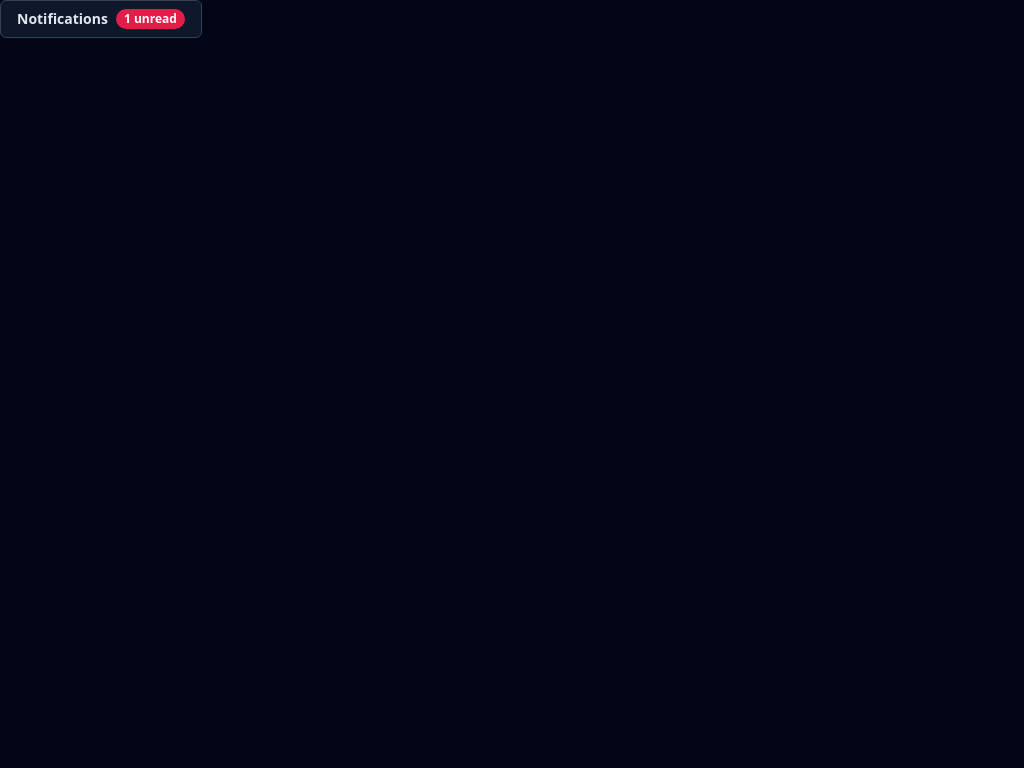
NotificationBell › acknowledges a notification and shows the zero-unread state
Expected: the text "1 unread" is shown, [116,9,185,29]
Step 1. Click the button "Notifications 1 unread" → (101,19), box [0,0,202,38]
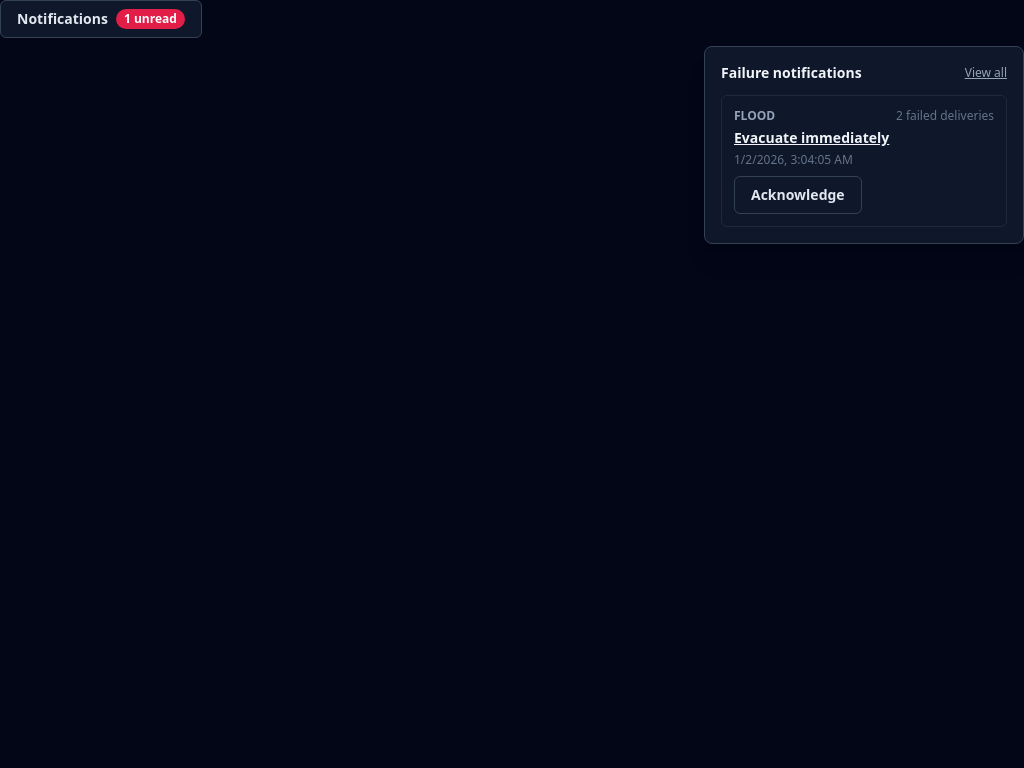
Step 2. Click the button "Acknowledge" → (798,195), box [734,176,862,214]
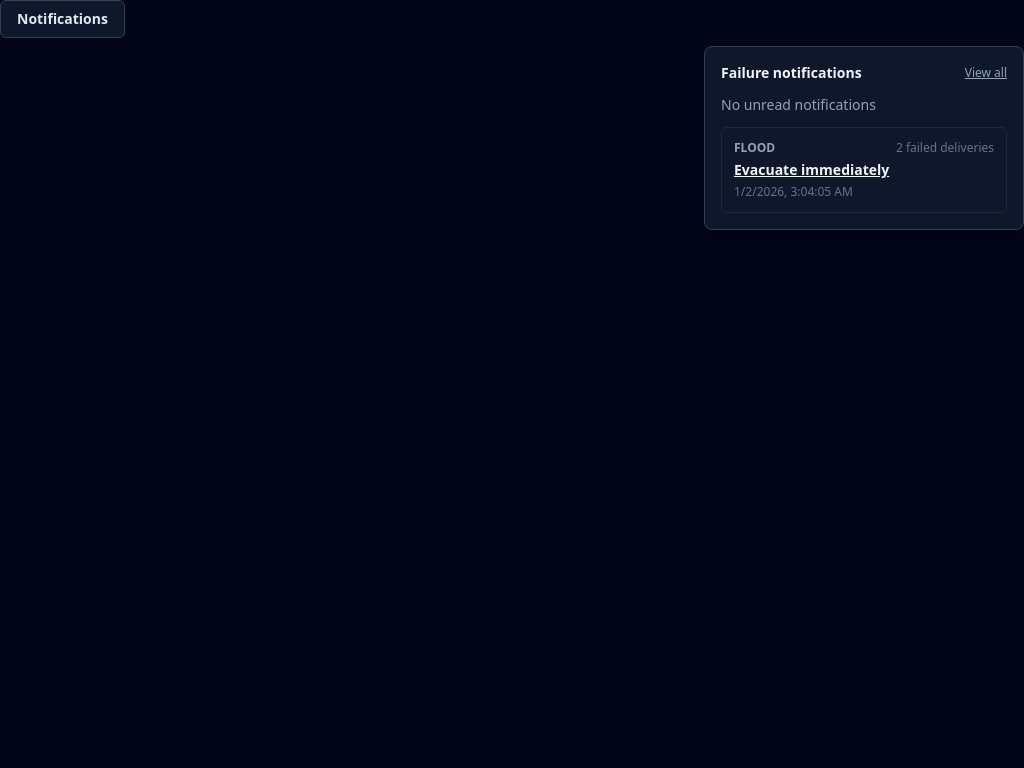
Result: the text "No unread notifications" is shown at [721,95,876,114]
Result: the text "1 unread" is gone
